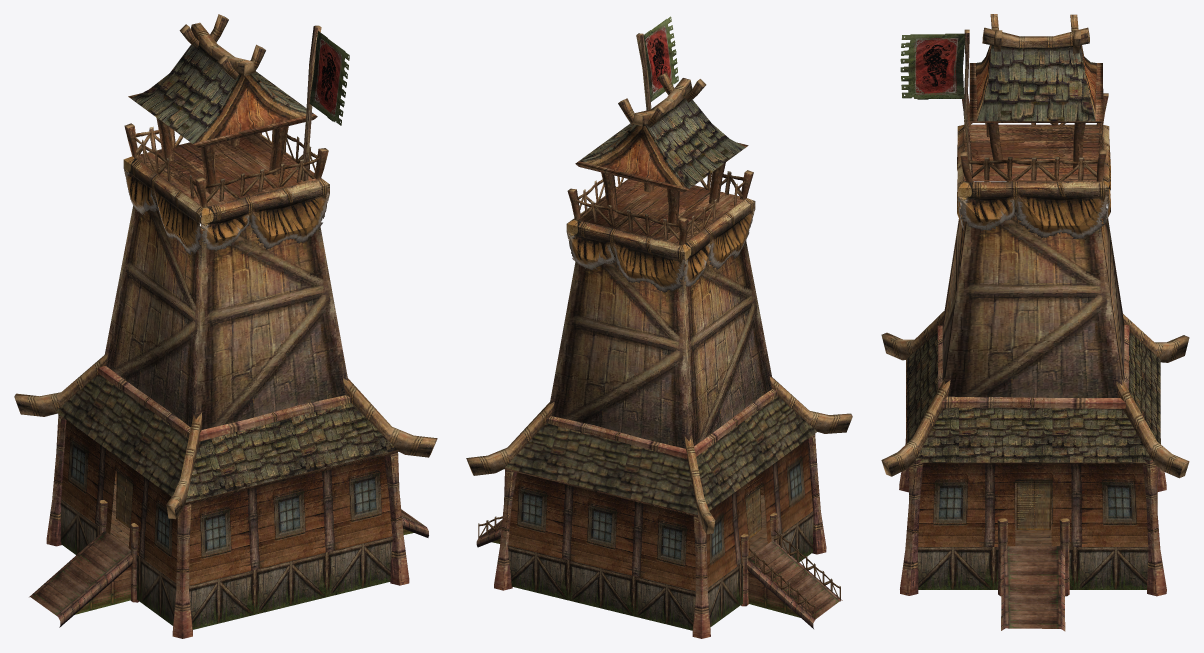
File: cj_thiefvill_house_01_01.glb
3 renders of one model, left to right at view 1: azimuth 30°, elevation 25°; view 2: azimuth 150°, elevation 25°; view 3: azimuth 270°, elevation 25°, orthographic. The views are drawn at different scales.
Visible parts, largest first — view 1: cj_thiefvill_house_01_08, cj_thiefvill_house_01_03, cj_thiefvill_house_01_06, cj_thiefvill_house_01_07, cj_thiefvill_house_01_01, cj_thiefvill_house_01_04, cj_thiefvill_house_01_02, cj_thiefvill_house_01_05; view 2: cj_thiefvill_house_01_08, cj_thiefvill_house_01_03, cj_thiefvill_house_01_06, cj_thiefvill_house_01_07, cj_thiefvill_house_01_01, cj_thiefvill_house_01_04, cj_thiefvill_house_01_02, cj_thiefvill_house_01_05; view 3: cj_thiefvill_house_01_08, cj_thiefvill_house_01_03, cj_thiefvill_house_01_06, cj_thiefvill_house_01_07, cj_thiefvill_house_01_01, cj_thiefvill_house_01_02, cj_thiefvill_house_01_05.
Part boxes in pixels (bbox=[...]): cj_thiefvill_house_01_08: bbox=[14, 14, 437, 519]; cj_thiefvill_house_01_03: bbox=[55, 374, 398, 585]; cj_thiefvill_house_01_06: bbox=[29, 366, 428, 638]; cj_thiefvill_house_01_07: bbox=[123, 133, 329, 254]; cj_thiefvill_house_01_01: bbox=[133, 31, 349, 202]; cj_thiefvill_house_01_04: bbox=[75, 528, 413, 614]; cj_thiefvill_house_01_02: bbox=[116, 471, 132, 527]; cj_thiefvill_house_01_05: bbox=[61, 479, 226, 583]; cj_thiefvill_house_01_08: bbox=[466, 33, 852, 534]; cj_thiefvill_house_01_03: bbox=[505, 396, 817, 590]; cj_thiefvill_house_01_06: bbox=[476, 389, 842, 638]; cj_thiefvill_house_01_07: bbox=[566, 179, 755, 292]; cj_thiefvill_house_01_01: bbox=[478, 16, 840, 619]; cj_thiefvill_house_01_04: bbox=[491, 538, 800, 617]; cj_thiefvill_house_01_02: bbox=[745, 488, 761, 538]; cj_thiefvill_house_01_05: bbox=[621, 494, 811, 590]; cj_thiefvill_house_01_08: bbox=[881, 14, 1189, 478]; cj_thiefvill_house_01_03: bbox=[906, 332, 1160, 546]; cj_thiefvill_house_01_06: bbox=[899, 324, 1166, 631]; cj_thiefvill_house_01_07: bbox=[957, 125, 1110, 238]; cj_thiefvill_house_01_01: bbox=[900, 33, 1103, 181]; cj_thiefvill_house_01_02: bbox=[1016, 478, 1052, 530]; cj_thiefvill_house_01_05: bbox=[1015, 466, 1157, 546].
Bounding box in the file's own units: 25.57 × 36.92 × 18.85.
8 materials, 8 textured.
